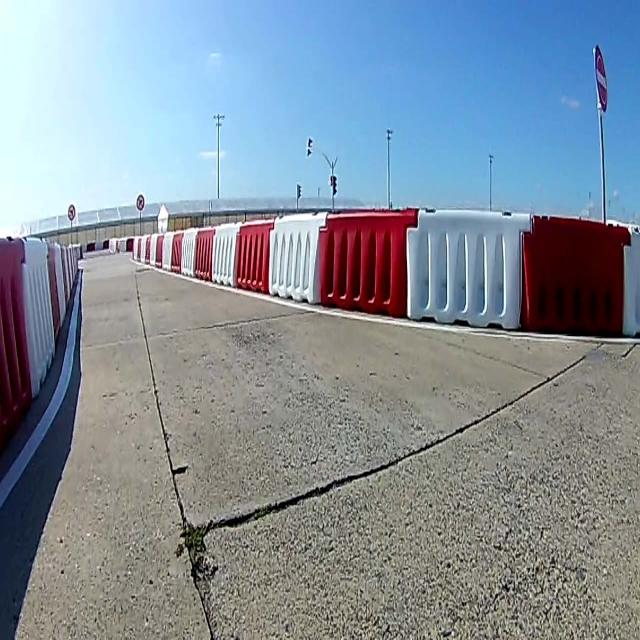girisyok: (591, 47, 611, 114)
